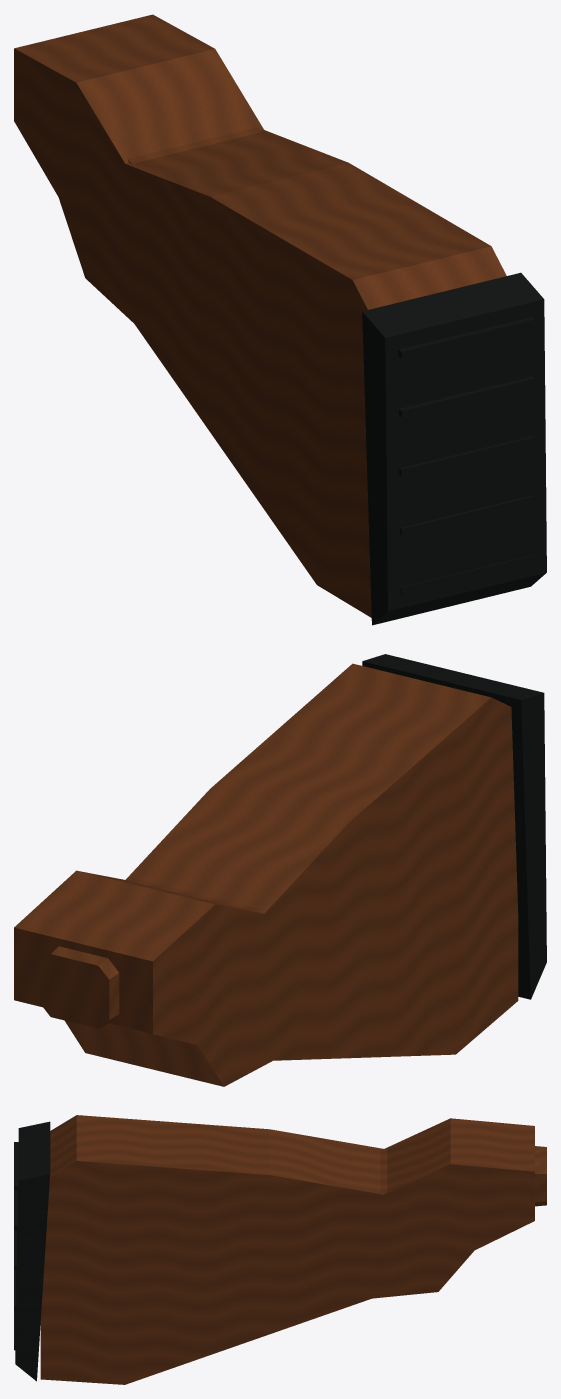
Rendered from 870_wood.glb.
The picture shows the model from 3 angles, top to bottom: view 1: azimuth 30°, elevation 25°; view 2: azimuth 150°, elevation 25°; view 3: azimuth 270°, elevation 25°; orthographic projection. The views are drawn at different scales.
Visible parts, largest first — view 1: stock__870_wood_LOD1_RAID_Secondary_Original_wood, stock__870_wood_LOD0_RAID_Secondary_Original_wood, stock__870_wood_LOD0_RAID_Secondary_Original_rubber, stock__870_wood_LOD1_RAID_Secondary_Original_rubber; view 2: stock__870_wood_LOD0_RAID_Secondary_Original_wood, stock__870_wood_LOD1_RAID_Secondary_Original_wood, stock__870_wood_LOD0_RAID_Secondary_Original_rubber, stock__870_wood_LOD1_RAID_Secondary_Original_rubber; view 3: stock__870_wood_LOD0_RAID_Secondary_Original_wood, stock__870_wood_LOD1_RAID_Secondary_Original_wood, stock__870_wood_LOD1_RAID_Secondary_Original_rubber, stock__870_wood_LOD0_RAID_Secondary_Original_rubber.
Boxes of the visible parts, x1,y1,x2,y2 form: stock__870_wood_LOD1_RAID_Secondary_Original_wood: (14,14,506,617); stock__870_wood_LOD0_RAID_Secondary_Original_wood: (16,17,501,608); stock__870_wood_LOD0_RAID_Secondary_Original_rubber: (362,275,544,623); stock__870_wood_LOD1_RAID_Secondary_Original_rubber: (362,272,546,625); stock__870_wood_LOD0_RAID_Secondary_Original_wood: (18,667,517,1082); stock__870_wood_LOD1_RAID_Secondary_Original_wood: (14,663,518,1086); stock__870_wood_LOD0_RAID_Secondary_Original_rubber: (364,655,545,996); stock__870_wood_LOD1_RAID_Secondary_Original_rubber: (362,654,546,999); stock__870_wood_LOD0_RAID_Secondary_Original_wood: (41,1117,546,1362); stock__870_wood_LOD1_RAID_Secondary_Original_wood: (40,1115,534,1384); stock__870_wood_LOD1_RAID_Secondary_Original_rubber: (15,1121,50,1381); stock__870_wood_LOD0_RAID_Secondary_Original_rubber: (14,1124,49,1350).
Bounding box in the file's own units: 0.103 × 0.205 × 0.442.
2 materials, 2 textured.
